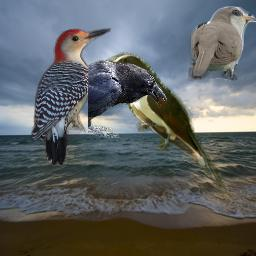Crow: (88, 60, 167, 138)
Cuckoo: (105, 51, 229, 194), (188, 6, 256, 81)
Woodpecker: (31, 28, 111, 165)
